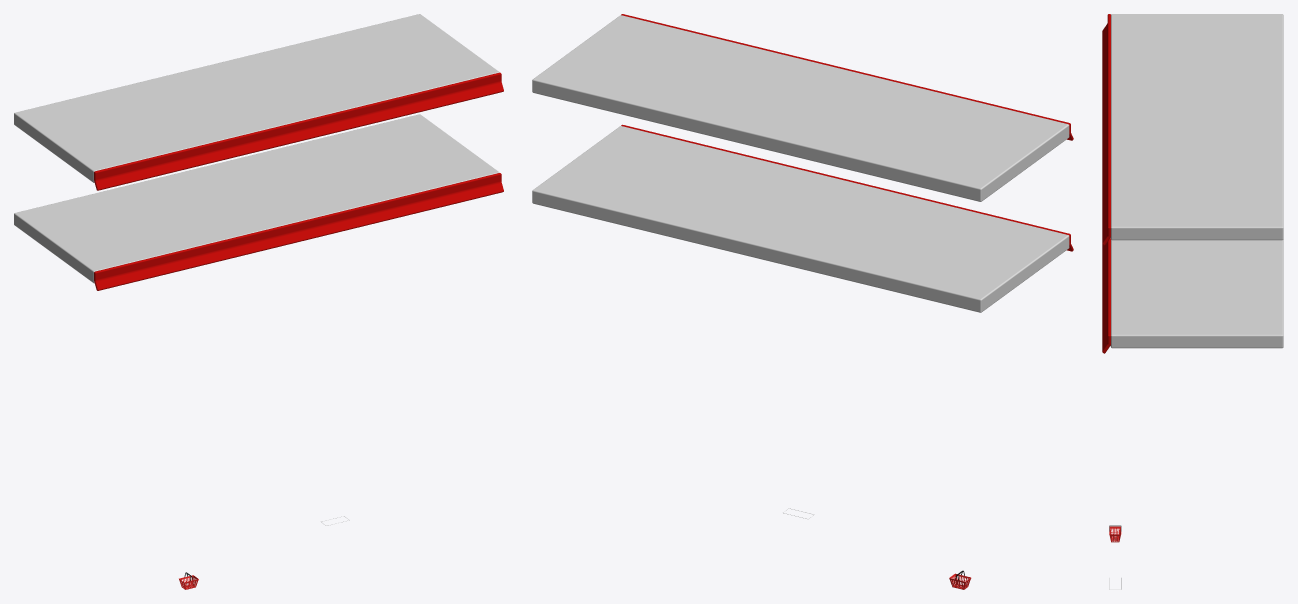
File: shoppingBasket.fbx
3 renders of one model, left to right at view 1: azimuth 30°, elevation 25°; view 2: azimuth 150°, elevation 25°; view 3: azimuth 270°, elevation 25°, orthographic. The views are drawn at different scales.
Visible parts, largest first — view 1: Plane.009, Plane, Plane.010, Plane.007; view 2: Plane.009, Plane, Plane.007, Plane.010; view 3: Plane, Plane.009, Plane.010, Plane.007.
Boxes of the visible parts, x1=… form: Plane.009: x1=14, y1=114, x2=499, y2=283; Plane: x1=14, y1=14, x2=499, y2=182; Plane.010: x1=94, y1=72, x2=503, y2=190; Plane.007: x1=94, y1=173, x2=503, y2=290; Plane.009: x1=532, y1=126, x2=1069, y2=312; Plane: x1=532, y1=15, x2=1069, y2=201; Plane.007: x1=621, y1=124, x2=1073, y2=251; Plane.010: x1=621, y1=14, x2=1073, y2=140; Plane: x1=1110, y1=14, x2=1283, y2=240; Plane.009: x1=1110, y1=239, x2=1283, y2=348; Plane.010: x1=1102, y1=14, x2=1110, y2=245; Plane.007: x1=1102, y1=238, x2=1110, y2=353.
Size of the model in its own units: 4417 by 4578 by 1583.
